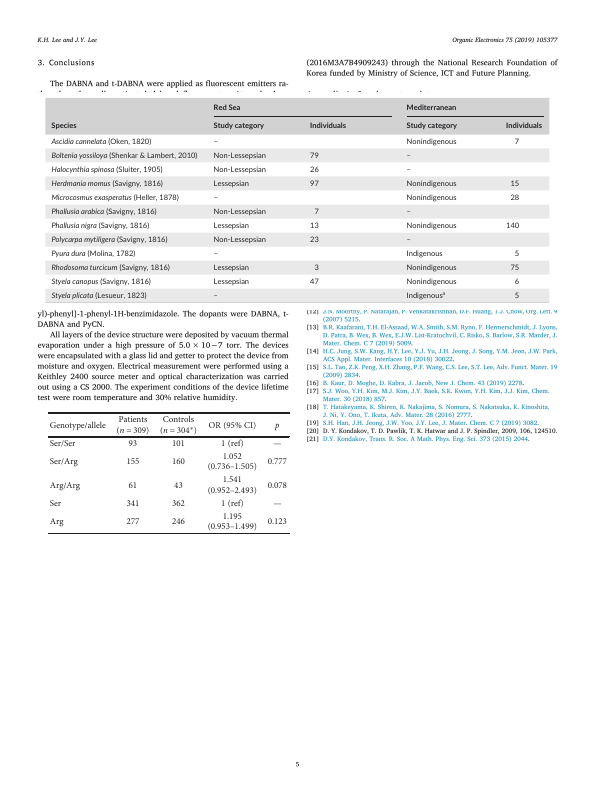borderless: (43, 97, 550, 304), (48, 411, 290, 534)
cell: (50, 150, 197, 162), (50, 192, 179, 204), (50, 262, 170, 274), (50, 234, 168, 246), (50, 164, 163, 176), (50, 178, 163, 190), (50, 206, 157, 218), (50, 136, 151, 148), (50, 276, 151, 288), (50, 220, 149, 232), (50, 290, 147, 302), (206, 452, 257, 473), (206, 475, 257, 496), (206, 512, 257, 533), (50, 248, 135, 260), (159, 415, 198, 436), (115, 415, 150, 436), (405, 101, 456, 114), (212, 150, 266, 162), (212, 164, 266, 176), (212, 206, 266, 218), (212, 234, 266, 246), (48, 420, 106, 431), (212, 120, 264, 132), (405, 120, 457, 132), (405, 136, 457, 148), (405, 178, 457, 190), (405, 192, 457, 204), (405, 220, 457, 232), (405, 262, 457, 274), (405, 276, 457, 288), (207, 420, 257, 431), (405, 289, 445, 302), (405, 248, 443, 260), (212, 178, 249, 190), (212, 220, 249, 232), (212, 262, 249, 274), (212, 276, 249, 288), (212, 101, 241, 114), (48, 480, 81, 491), (50, 120, 77, 132), (308, 122, 346, 130), (504, 122, 542, 130), (48, 457, 78, 467), (48, 439, 76, 449), (220, 439, 244, 449), (220, 499, 244, 509), (266, 480, 287, 491), (266, 517, 287, 528), (266, 457, 287, 467), (48, 517, 64, 528), (125, 517, 140, 528), (171, 517, 186, 528), (171, 439, 186, 449), (125, 457, 140, 467), (171, 457, 186, 467), (125, 499, 140, 509), (171, 499, 186, 509), (48, 499, 62, 509), (308, 150, 319, 162), (308, 164, 319, 176), (308, 178, 319, 190), (127, 480, 138, 491), (127, 439, 138, 449), (173, 480, 183, 491), (504, 223, 519, 230), (308, 223, 319, 230), (308, 237, 319, 244), (308, 279, 319, 286), (513, 276, 519, 288), (509, 181, 519, 188), (509, 195, 519, 202), (509, 265, 519, 272), (274, 422, 280, 431), (212, 139, 218, 146), (513, 139, 519, 146), (405, 153, 411, 160), (405, 167, 411, 174), (212, 195, 218, 202), (313, 209, 319, 216), (405, 209, 411, 216), (405, 237, 411, 244), (212, 251, 218, 258), (513, 251, 519, 258), (313, 265, 319, 272), (212, 293, 218, 300), (513, 293, 519, 300), (272, 443, 282, 447), (272, 503, 282, 507)
